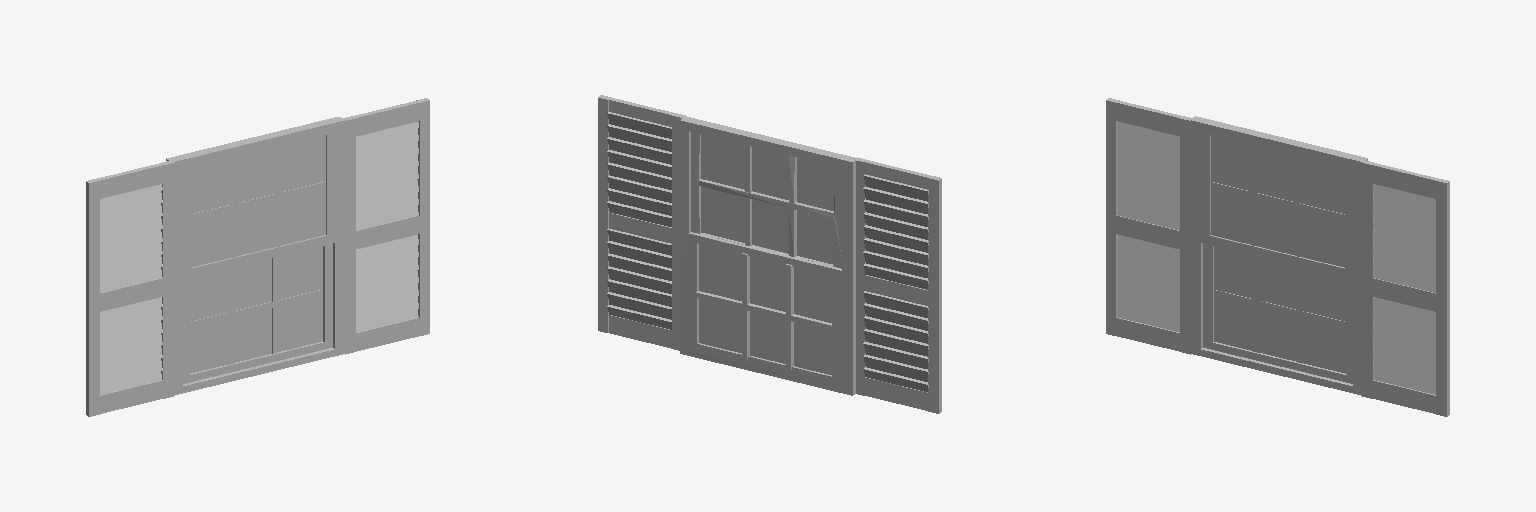
The model's file is window_with_shutters_6.obj.
3 views of the same model, side by side, from view 1: azimuth 30°, elevation 25°; view 2: azimuth 150°, elevation 25°; view 3: azimuth 330°, elevation 25° (orthographic).
Visible parts, largest first — view 1: Glass_Cube.001, ShutterPanes_Plane.005, ShutterEdge_Plane.021, WindowFrame_Plane.024; view 2: ShutterPanes_Plane.005, Glass_Cube.001, WindowFrame_Plane.024, ShutterEdge_Plane.021; view 3: Glass_Cube.001, ShutterPanes_Plane.005, ShutterEdge_Plane.021, WindowFrame_Plane.024.
Part boxes in pixels (x1,y1,x2,y2): Glass_Cube.001: (190,135,325,373); ShutterPanes_Plane.005: (100,122,418,394); ShutterEdge_Plane.021: (86,98,429,416); WindowFrame_Plane.024: (166,117,344,395); ShutterPanes_Plane.005: (607,112,928,391); Glass_Cube.001: (699,134,833,374); WindowFrame_Plane.024: (680,116,855,395); ShutterEdge_Plane.021: (598,95,941,413); Glass_Cube.001: (1211,135,1346,373); ShutterPanes_Plane.005: (1117,122,1435,394); ShutterEdge_Plane.021: (1106,98,1449,416); WindowFrame_Plane.024: (1191,116,1367,395).
Size of the model in its own units: 76.72 by 50.2 by 2.91.